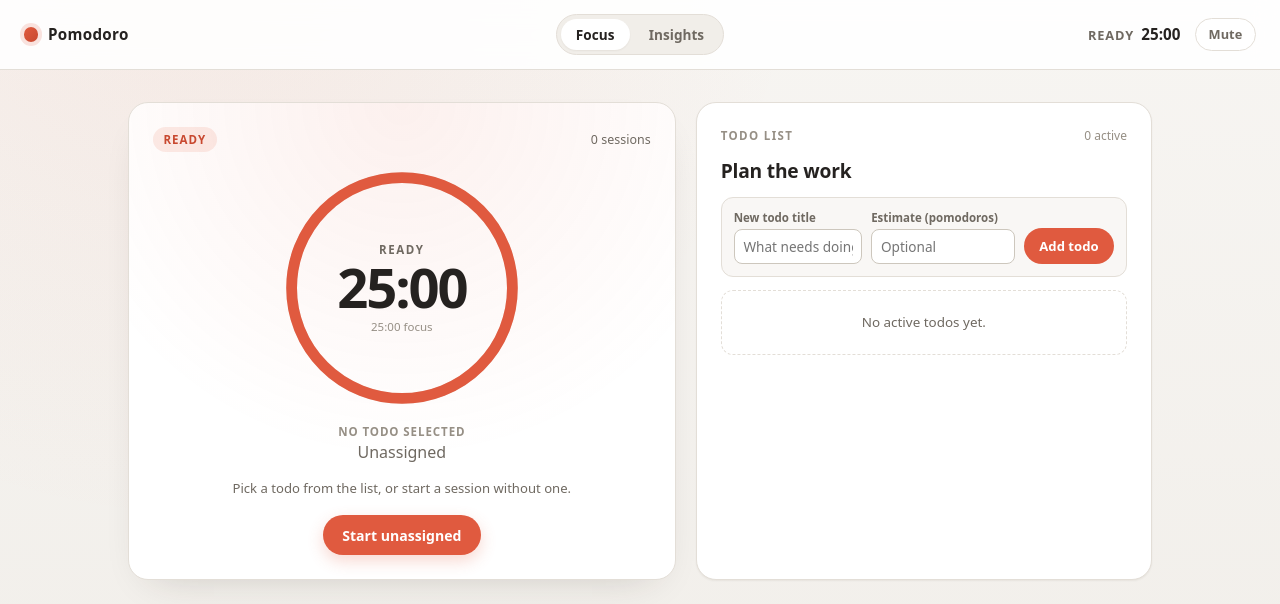
App › renders the insights dashboard on the insights tab
Expected: the button "Start unassigned" is shown, top-left (323, 515), bottom-right (481, 555)
Click the button "Insights" at (676, 34), box top-left (634, 19), bottom-right (719, 50)
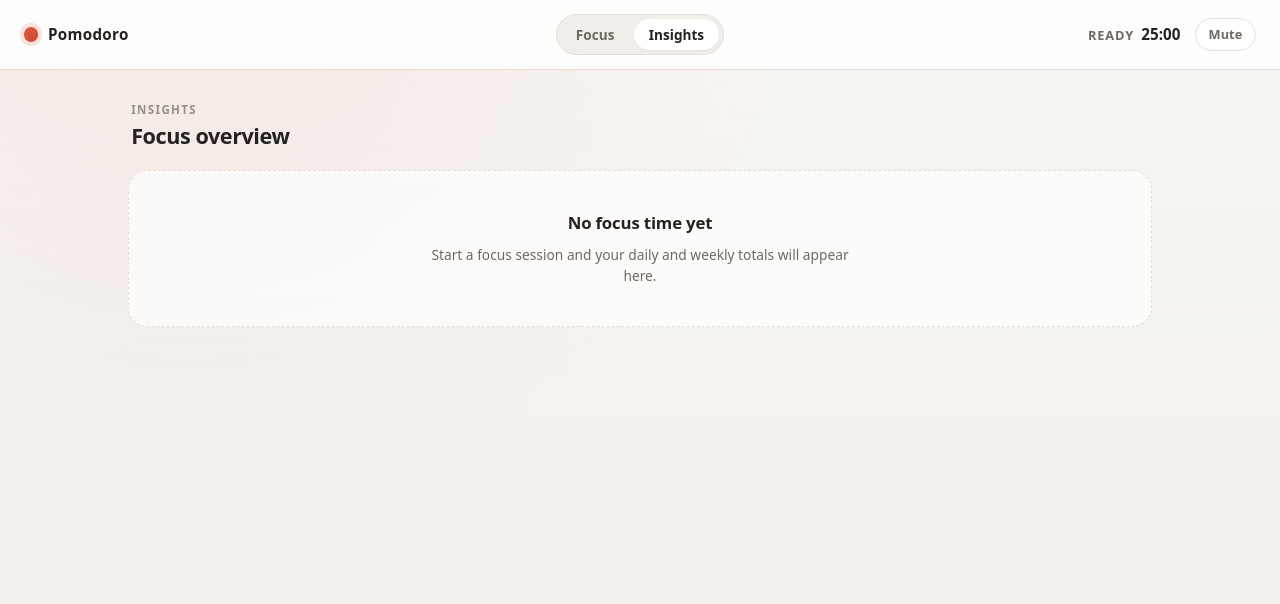
Result: the heading "No focus time yet" is shown at top-left (568, 211), bottom-right (712, 234)
Result: the button "Start unassigned" is gone
